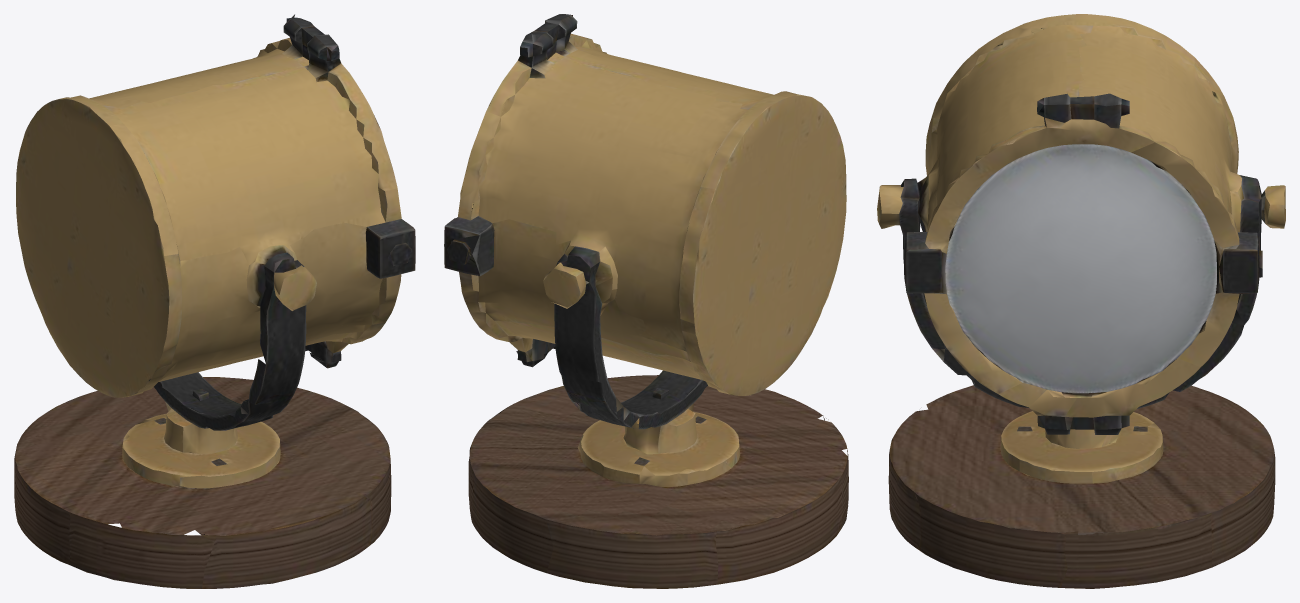
File: projecteur.glb
3 renders of one model, left to right at view 1: azimuth 30°, elevation 25°; view 2: azimuth 150°, elevation 25°; view 3: azimuth 270°, elevation 25°, orthographic. The views are drawn at different scales.
Visible parts, largest first — view 1: projecteur; view 2: projecteur; view 3: projecteur.
Boxes of the visible parts, x1=… form: projecteur: x1=14, y1=14, x2=415, y2=588; projecteur: x1=444, y1=14, x2=848, y2=588; projecteur: x1=877, y1=14, x2=1285, y2=588.
Size of the model in its own units: 1.04 by 1.4 by 1.1.
Materials: 1 (1 with a texture image).
